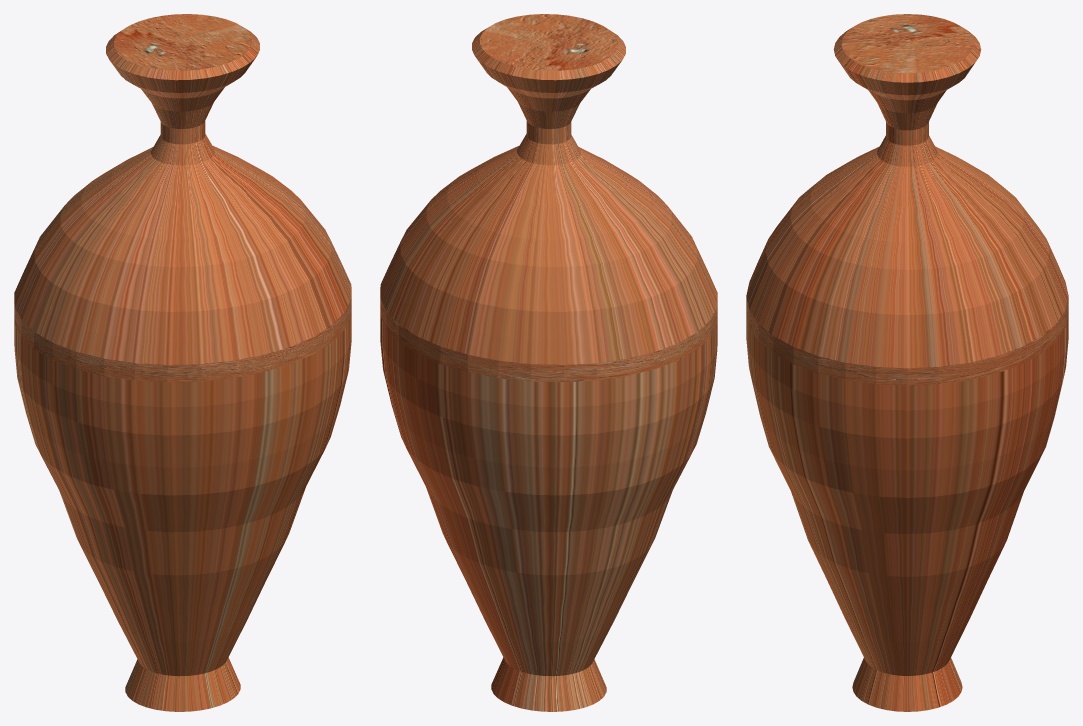
The model's file is Vase2.fbx.
3 views of the same model, side by side, from view 1: azimuth 30°, elevation 25°; view 2: azimuth 150°, elevation 25°; view 3: azimuth 270°, elevation 25° (orthographic).
Visible parts, largest first — view 1: Vase1; view 2: Vase1; view 3: Vase1.
Boxes of the visible parts, bbox=[...] form: Vase1: bbox=[14, 14, 351, 711]; Vase1: bbox=[380, 14, 717, 711]; Vase1: bbox=[746, 14, 1068, 711].
Size of the model in its own units: 189 by 391 by 178.
